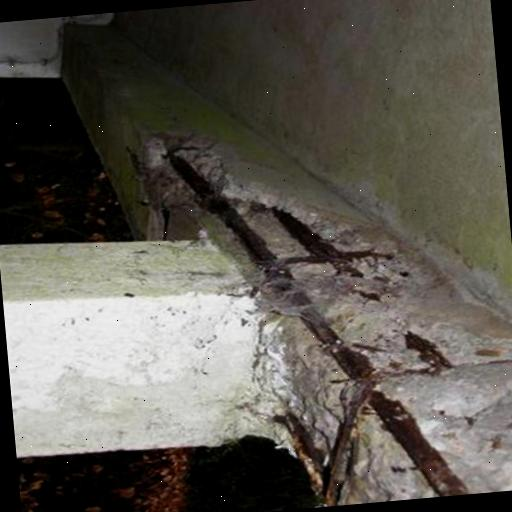spalling: (152, 130, 512, 502)
